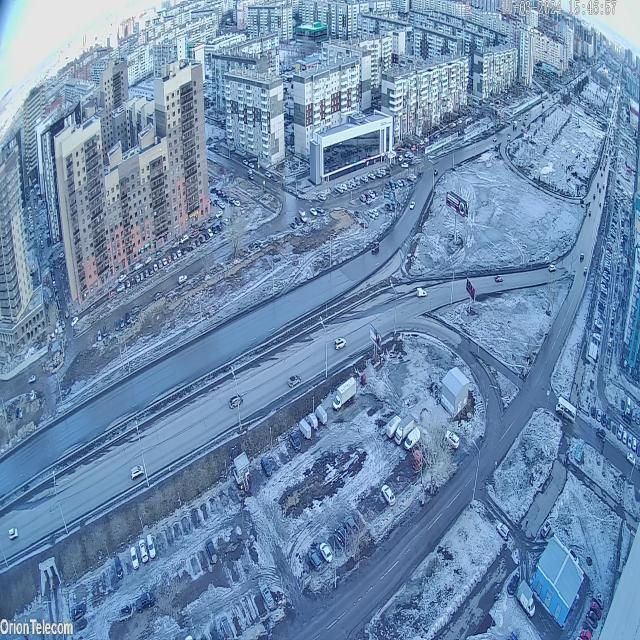car: (332, 376, 357, 414), (394, 413, 414, 447), (518, 579, 535, 619), (555, 396, 577, 426), (135, 588, 155, 615), (404, 426, 421, 454), (204, 536, 219, 566), (259, 582, 275, 610), (333, 523, 350, 549), (344, 513, 358, 542), (380, 482, 396, 507), (308, 548, 323, 574), (507, 572, 520, 599), (444, 428, 459, 451), (228, 391, 244, 412), (320, 540, 333, 565), (288, 430, 302, 453), (287, 370, 302, 391), (129, 545, 140, 573), (592, 589, 605, 612), (260, 455, 272, 479), (72, 600, 85, 622), (138, 538, 148, 566), (146, 532, 156, 560), (495, 521, 509, 541), (589, 601, 603, 621), (114, 554, 124, 581), (540, 519, 552, 541), (130, 464, 145, 481), (585, 611, 598, 630), (595, 424, 606, 443), (334, 336, 347, 352), (621, 408, 632, 425), (416, 285, 427, 301), (626, 450, 636, 467), (371, 240, 380, 257), (8, 527, 18, 542), (616, 424, 624, 441), (580, 629, 592, 640), (494, 272, 504, 284), (631, 437, 638, 454), (627, 432, 633, 450), (605, 417, 612, 432), (601, 411, 607, 428), (622, 428, 628, 445), (597, 407, 602, 425), (590, 405, 597, 417)
